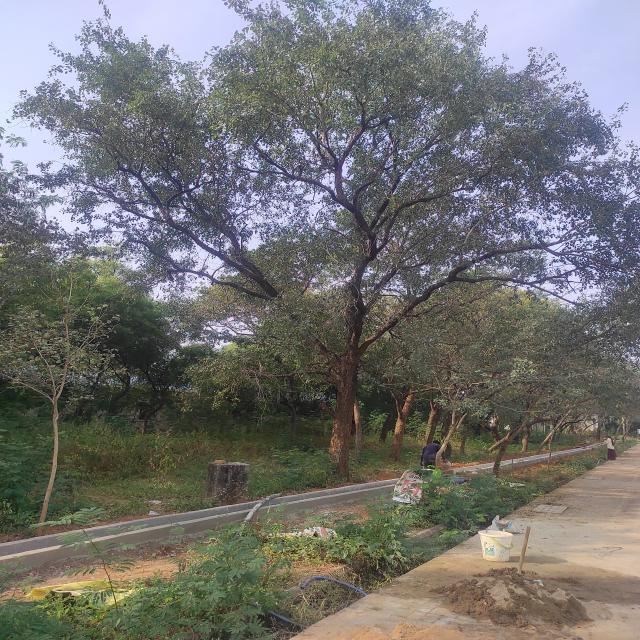Devakanchan tree: (93, 20, 582, 441)
